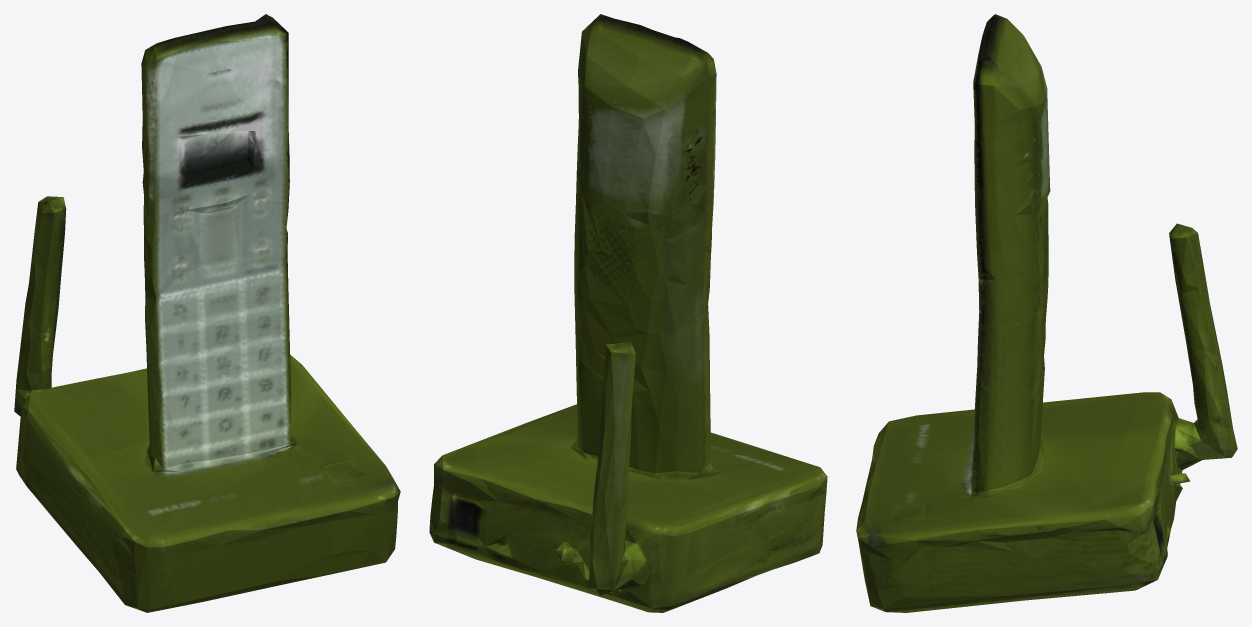
Rendered from phone_all.dae.
3 renders of one model, left to right at view 1: azimuth 30°, elevation 25°; view 2: azimuth 150°, elevation 25°; view 3: azimuth 270°, elevation 25°, orthographic.
Parts seen in each view (by area): view 1: _3_Phone_ALL_001; view 2: _3_Phone_ALL_001; view 3: _3_Phone_ALL_001.
Boxes of the visible parts, x1,y1,x2,y2 form: _3_Phone_ALL_001: (14,14,400,612); _3_Phone_ALL_001: (429,14,827,612); _3_Phone_ALL_001: (856,14,1237,612).
Size of the model in its own units: 0.1018 by 0.1221 by 0.1866.
1 material, 1 textured.
